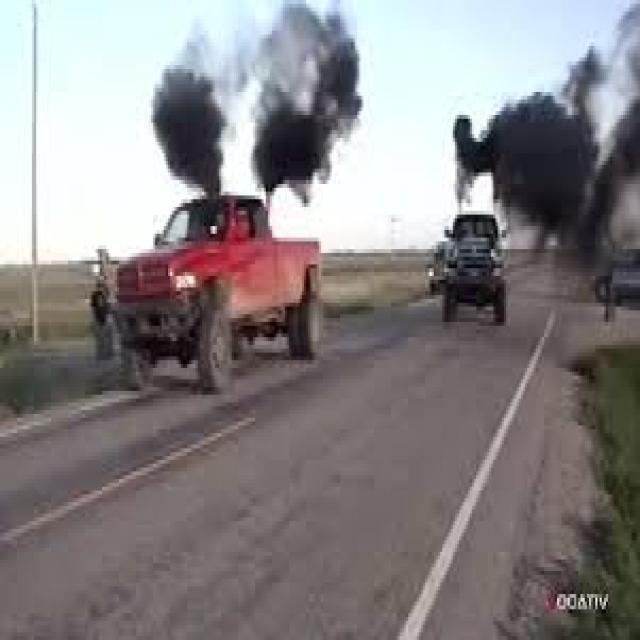Smoke: (451, 0, 640, 272), (150, 0, 363, 208)
